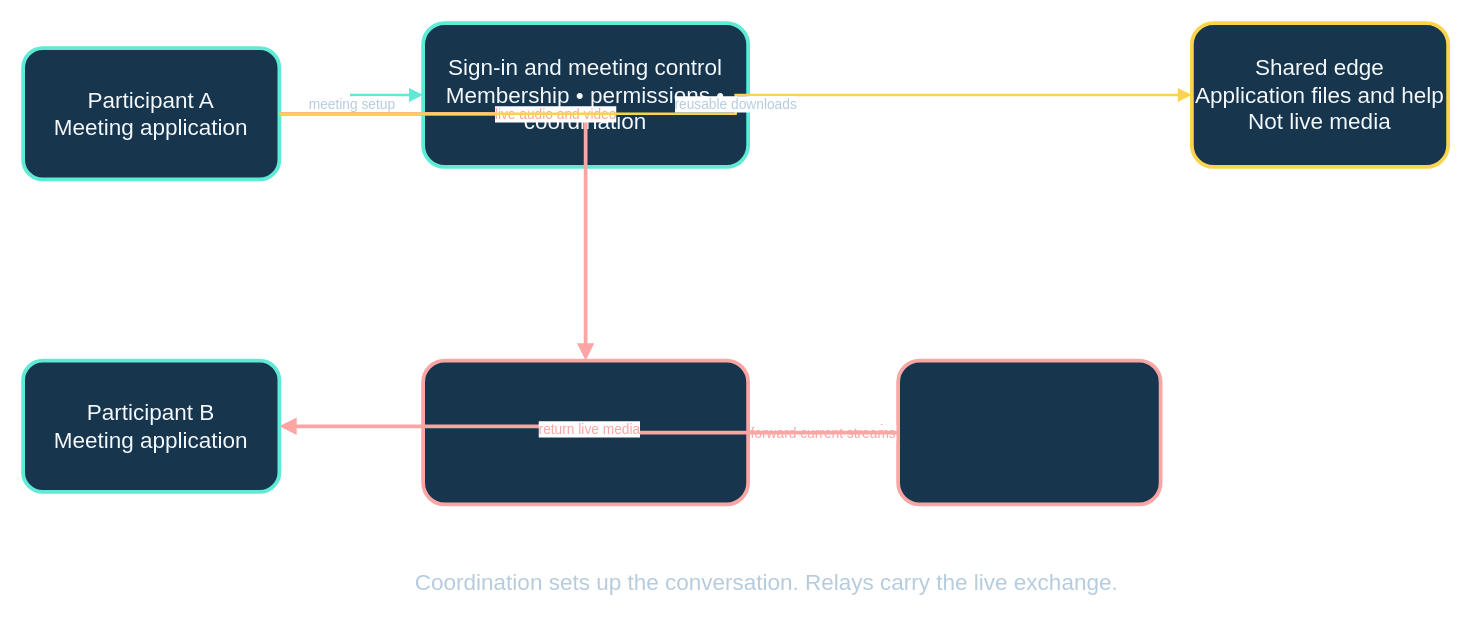
The diagram is 1471 pixels wide and 626 high, and some of its shapes have lost their labels. The centre of each missing label's shape, as x and y in pixels:
Meeting media Voice and camera Right now: point (1029, 432)
Regional media relay Forwards current streams: point (585, 432)
